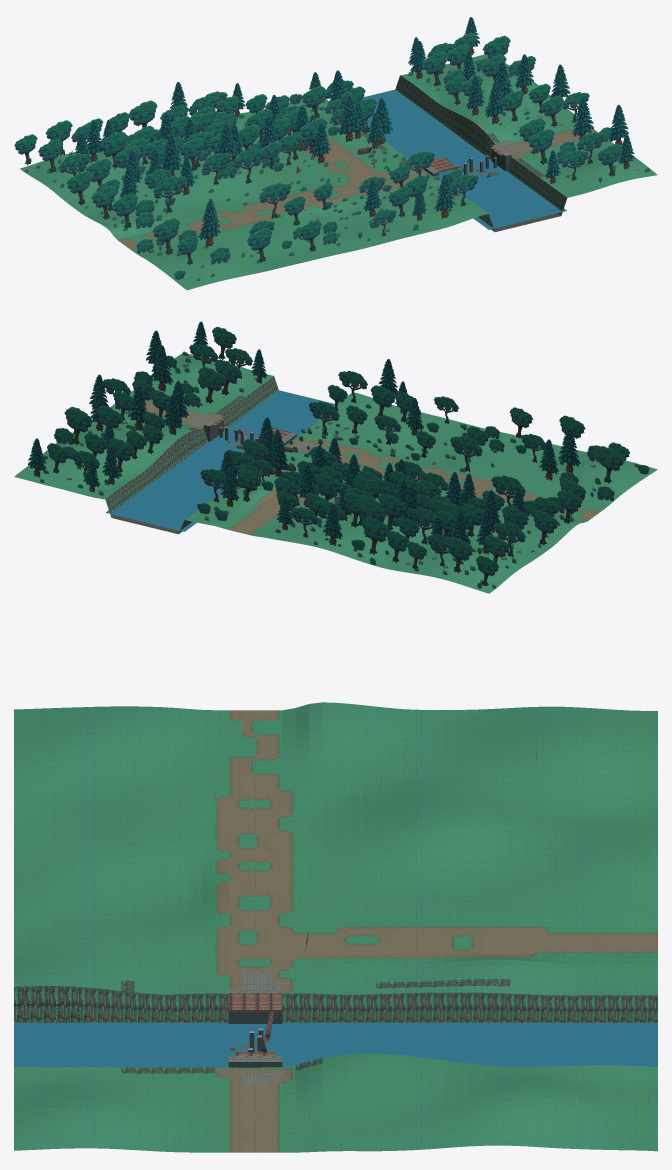
The model's file is intro_road.glb.
The picture shows the model from 3 angles, top to bottom: view 1: azimuth 30°, elevation 25°; view 2: azimuth 150°, elevation 25°; view 3: azimuth 270°, elevation 25°; orthographic projection. The views are drawn at different scales.
Visible parts, largest first — view 1: crocotile_scene; view 2: crocotile_scene; view 3: crocotile_scene.
Part boxes in pixels (x1=…): crocotile_scene: x1=14, y1=17, x2=657, y2=290; crocotile_scene: x1=14, y1=321, x2=657, y2=593; crocotile_scene: x1=14, y1=702, x2=657, y2=1152.
Bounding box in the file's own units: 80.84 × 11.42 × 48.
Materials: 4 (4 with a texture image).
